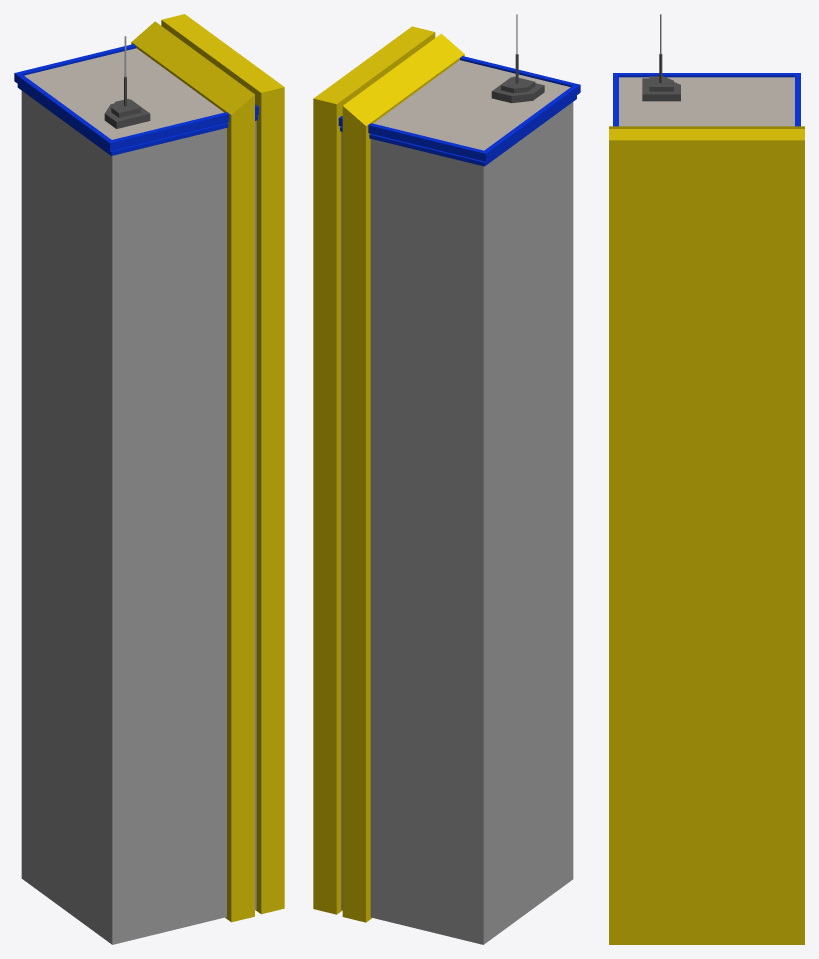
Rendered from building3.fbx.
3 renders of one model, left to right at view 1: azimuth 30°, elevation 25°; view 2: azimuth 150°, elevation 25°; view 3: azimuth 270°, elevation 25°, orthographic. The views are drawn at different scales.
Parts seen in each view (by area): view 1: pCylinder3; view 2: pCylinder3; view 3: pCylinder3.
Boxes of the visible parts, x1=… form: pCylinder3: x1=14, y1=14, x2=284, y2=944; pCylinder3: x1=313, y1=14, x2=580, y2=944; pCylinder3: x1=609, y1=14, x2=804, y2=944.
Bounding box in the file's own units: 10.97 × 53.79 × 11.
